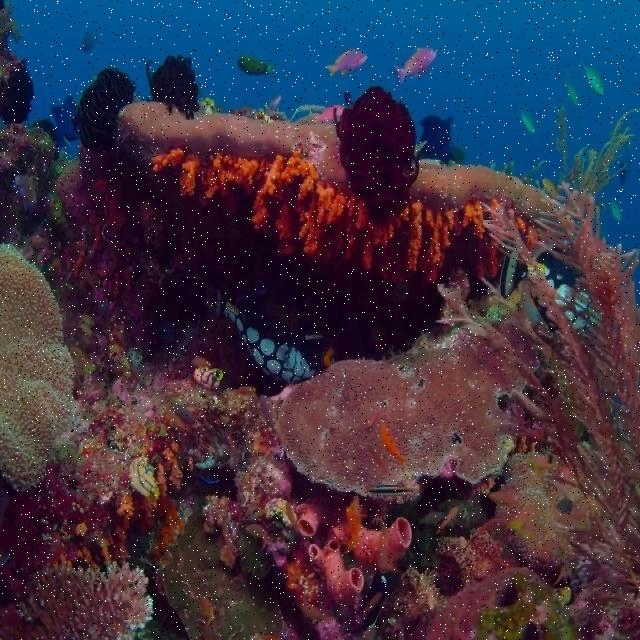aquatic plants: (454, 192, 639, 592), (549, 108, 639, 192)
fish: (222, 301, 316, 384), (393, 47, 437, 83), (326, 49, 367, 73), (238, 59, 273, 75)
reefs: (2, 0, 640, 635), (115, 104, 583, 274), (202, 455, 413, 634), (2, 246, 81, 487), (334, 89, 419, 225)
